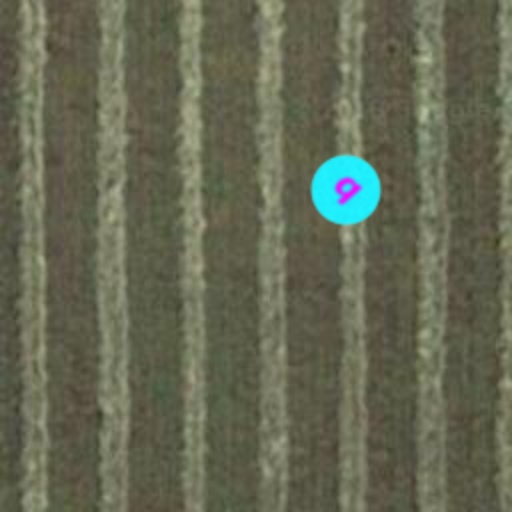circle: (296, 140, 396, 240)
